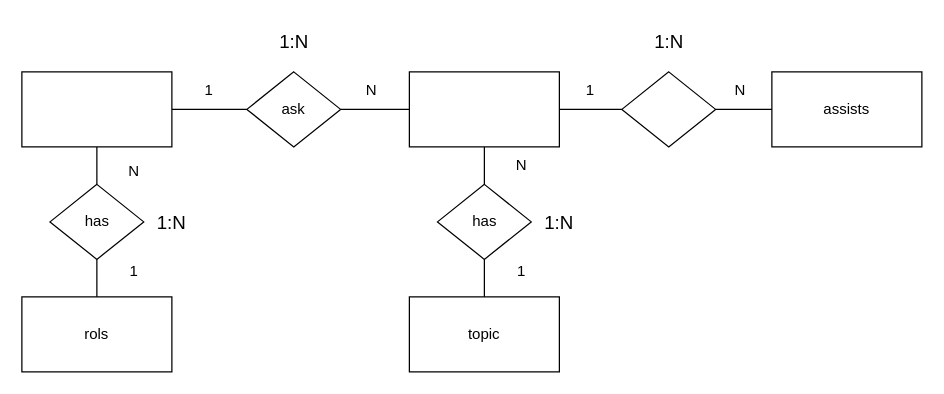
This 944x394 diagram has some shape labels left out. The centre of each missing label's shape, as x and y in pixels:
help: the point at 668,109
request: the point at 483,109
users: the point at 96,109
